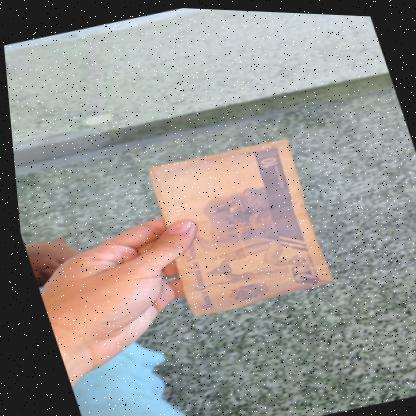ten-back-vef: (139, 131, 332, 316)
